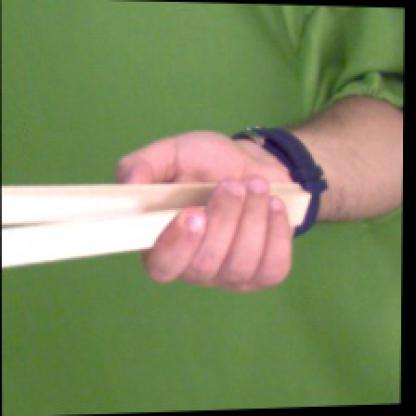Hand: (115, 130, 299, 293)
